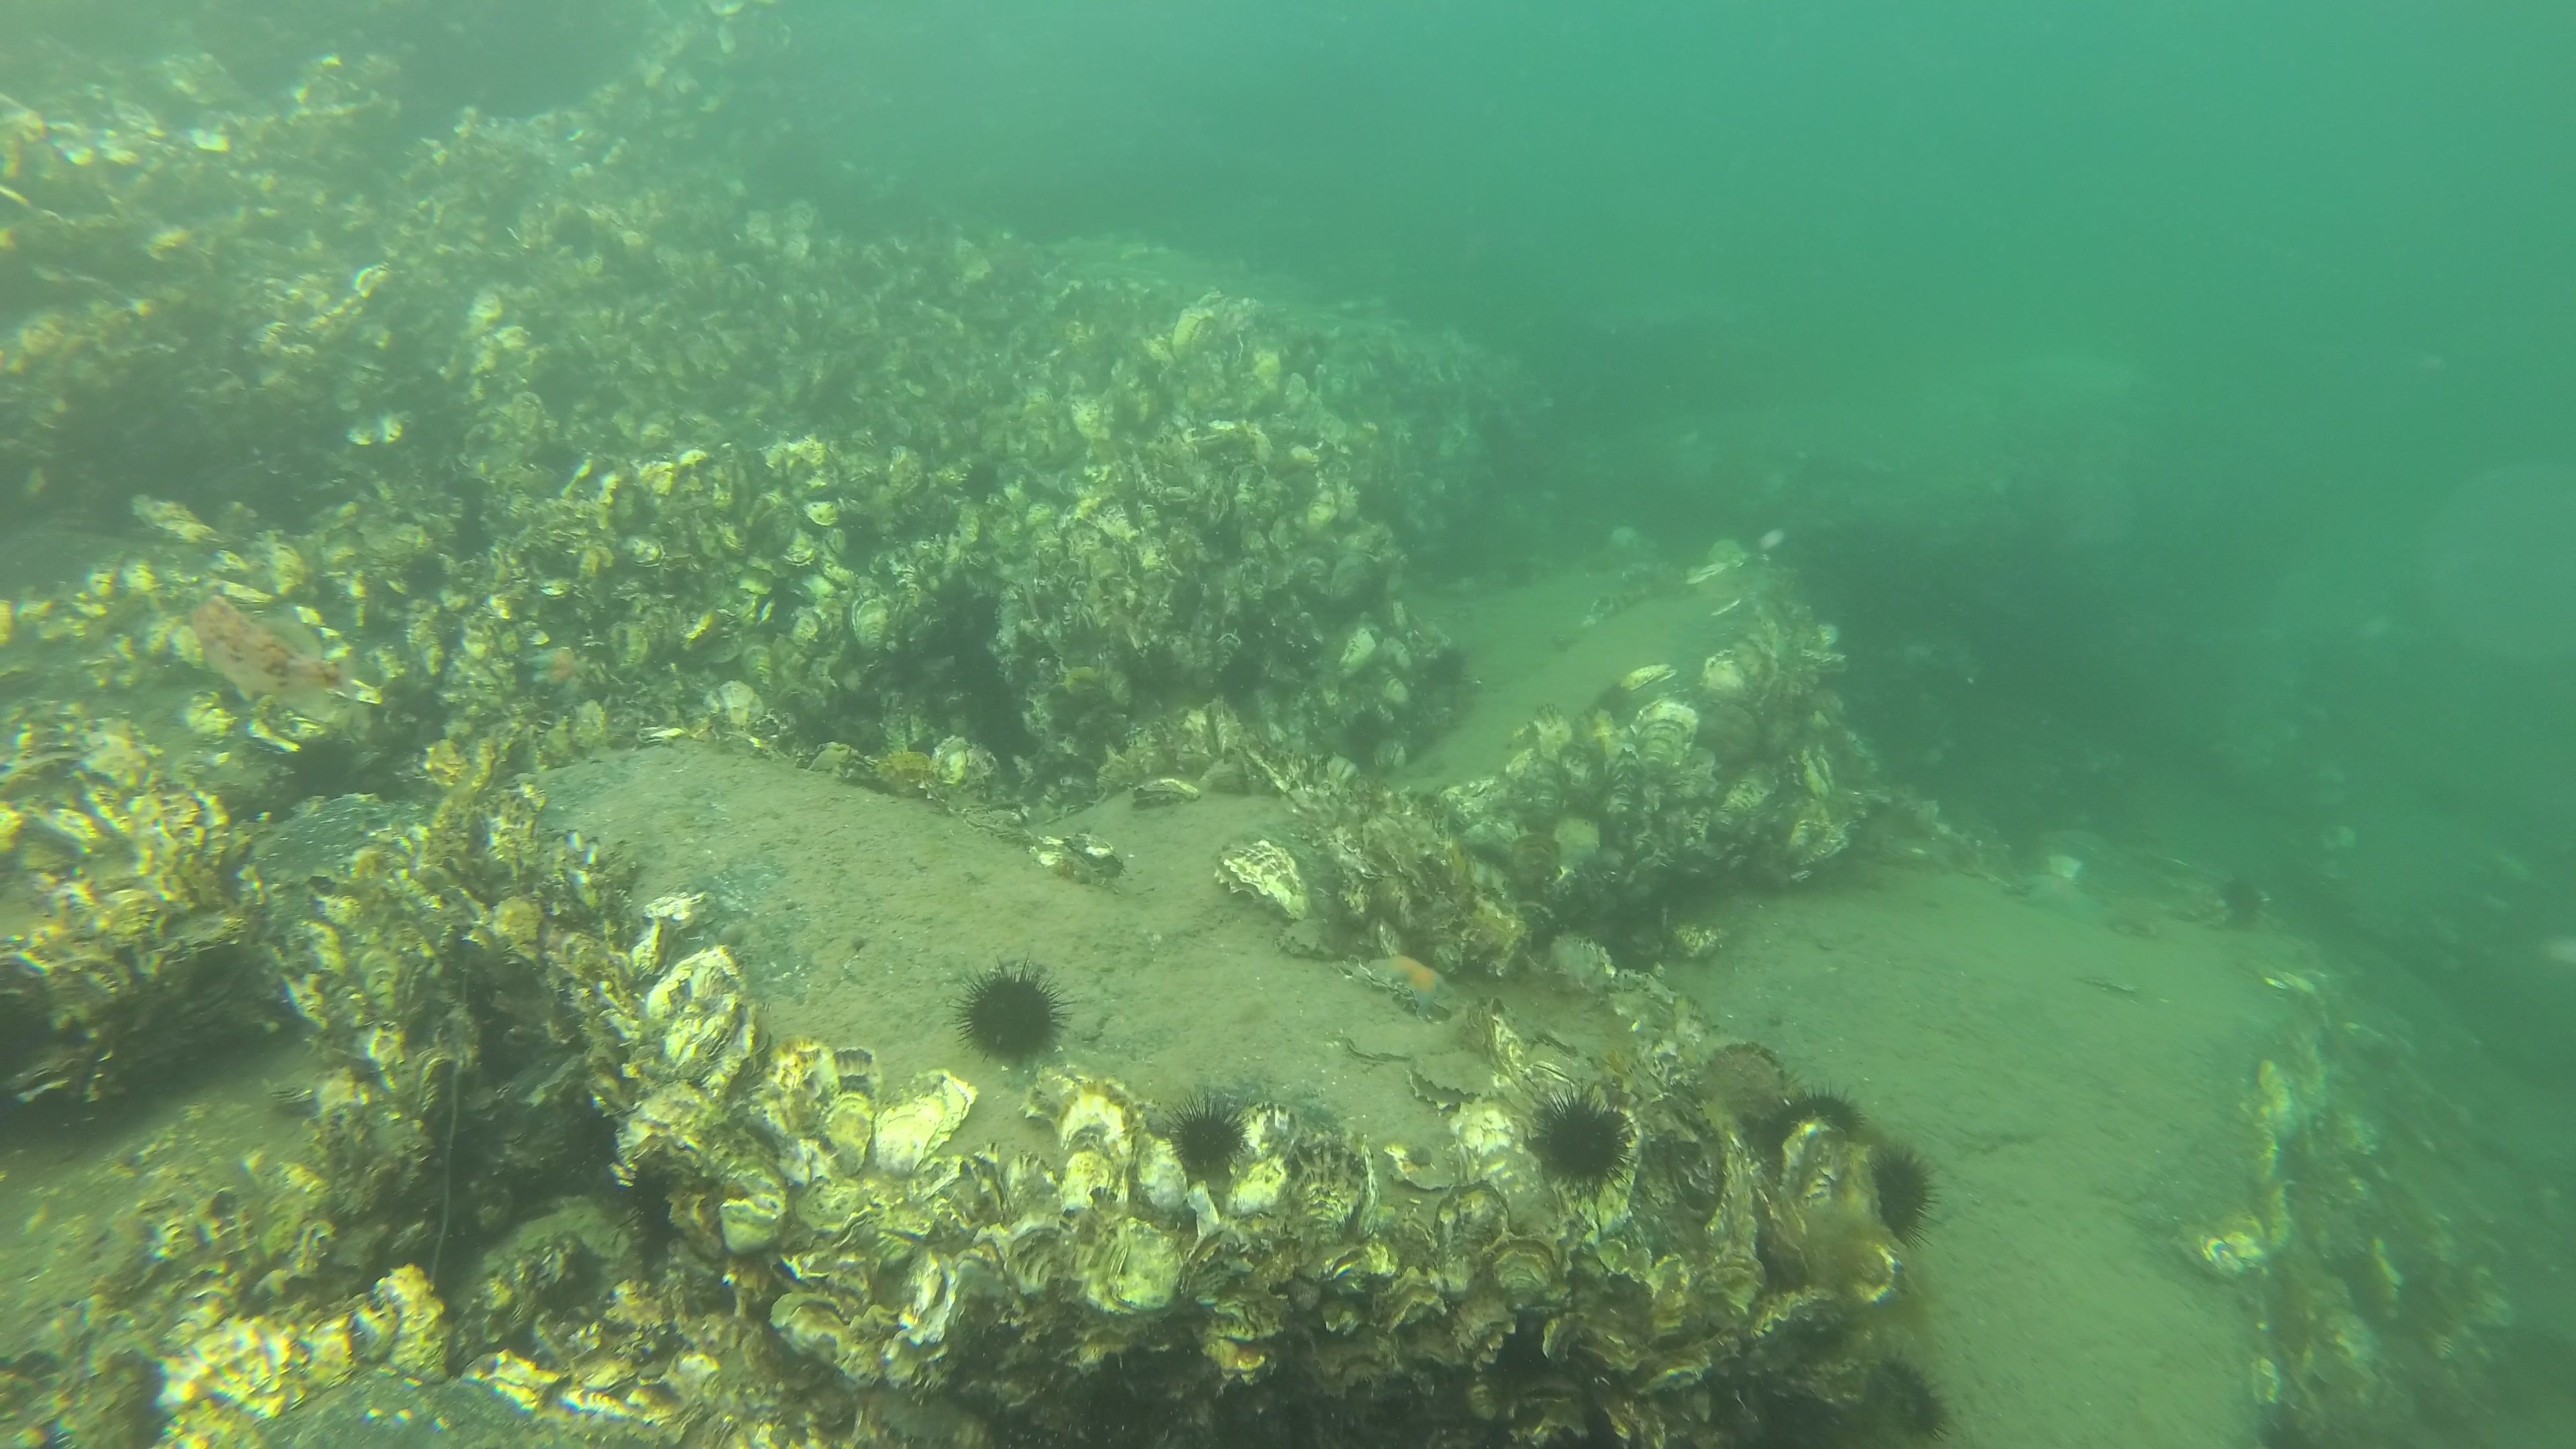echinus: (945, 955, 1086, 1074), (1518, 1083, 1640, 1198), (1750, 1083, 1874, 1177), (1161, 1088, 1256, 1184), (1870, 1352, 1960, 1449), (1868, 1143, 1944, 1253), (518, 426, 586, 499), (402, 541, 467, 616), (948, 444, 1014, 517), (839, 490, 904, 563)
starfish: (1366, 950, 1460, 1017), (527, 642, 600, 699)
